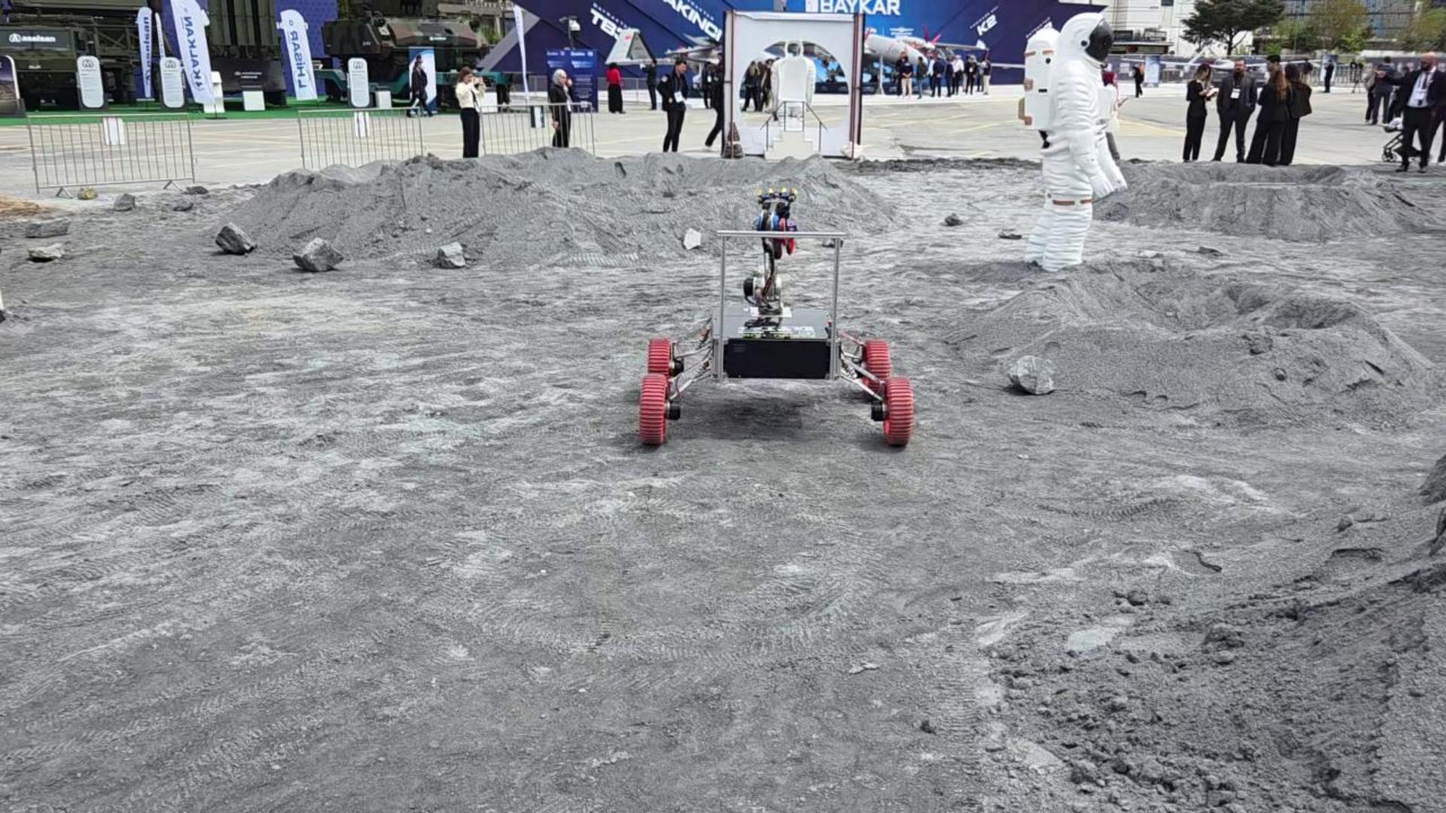rock: (1009, 356, 1054, 394), (293, 237, 343, 271), (215, 222, 256, 254), (25, 220, 70, 238), (435, 242, 465, 268), (27, 244, 63, 262), (681, 228, 702, 250), (942, 212, 962, 226), (998, 228, 1022, 239)
